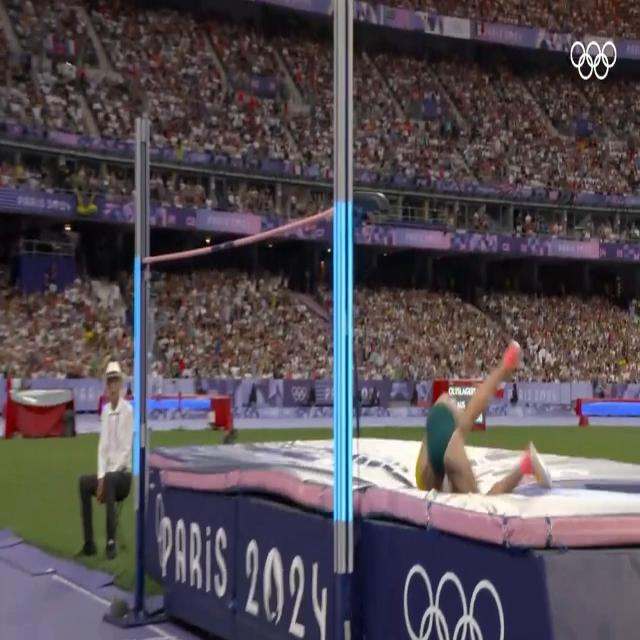land: (414, 343, 552, 493)
